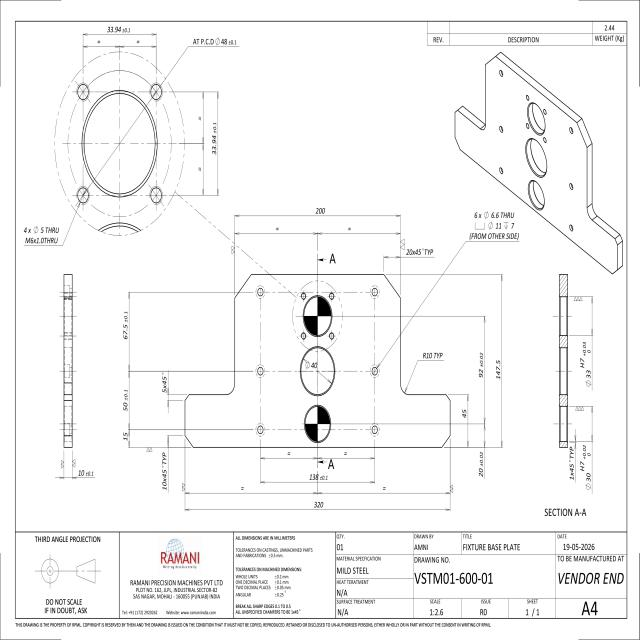dimension: (468, 209, 520, 241), (22, 225, 60, 246), (579, 444, 592, 492), (579, 341, 592, 388), (192, 36, 238, 47), (405, 246, 434, 256), (210, 120, 218, 156), (161, 451, 168, 491), (106, 24, 132, 34), (568, 445, 575, 482), (308, 471, 329, 482), (422, 350, 444, 360), (478, 351, 485, 379), (76, 468, 95, 478), (122, 310, 128, 341), (478, 450, 484, 479), (122, 388, 129, 412), (304, 360, 318, 371), (161, 372, 168, 394), (495, 358, 502, 379), (316, 206, 326, 216), (313, 500, 324, 509), (122, 431, 129, 442), (461, 408, 468, 419)
